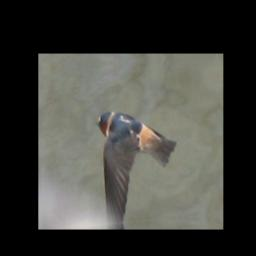Swallow: (95, 101, 180, 224)
